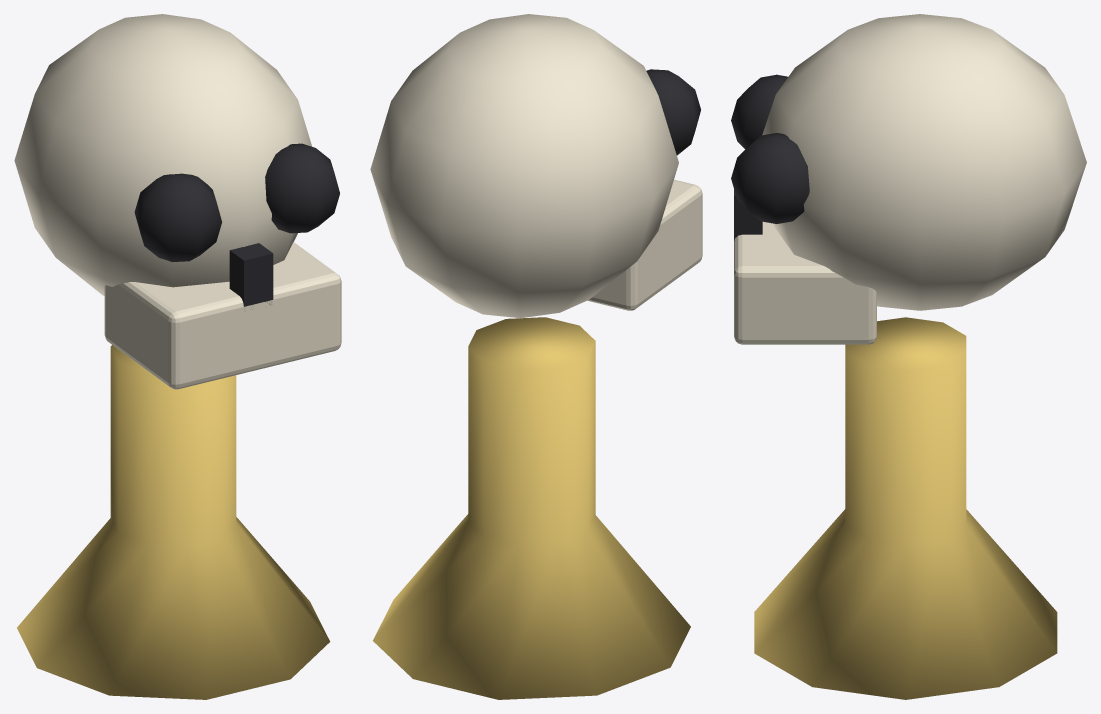
Rendered from chalice_skull_goblet.glb.
3 views of the same model, side by side, from view 1: azimuth 30°, elevation 25°; view 2: azimuth 150°, elevation 25°; view 3: azimuth 270°, elevation 25° (orthographic).
Parts seen in each view (by area): view 1: GD_chalice_skull_goblet__m0, GD_chalice_skull_goblet__m2, GD_chalice_skull_goblet__m1; view 2: GD_chalice_skull_goblet__m0, GD_chalice_skull_goblet__m2, GD_chalice_skull_goblet__m1; view 3: GD_chalice_skull_goblet__m0, GD_chalice_skull_goblet__m2, GD_chalice_skull_goblet__m1.
Part boxes in pixels (bbox=[...]): GD_chalice_skull_goblet__m0: bbox=[14, 14, 341, 389]; GD_chalice_skull_goblet__m2: bbox=[17, 345, 330, 699]; GD_chalice_skull_goblet__m1: bbox=[134, 143, 339, 306]; GD_chalice_skull_goblet__m0: bbox=[370, 14, 702, 318]; GD_chalice_skull_goblet__m2: bbox=[373, 317, 690, 699]; GD_chalice_skull_goblet__m1: bbox=[646, 69, 700, 155]; GD_chalice_skull_goblet__m0: bbox=[734, 14, 1086, 344]; GD_chalice_skull_goblet__m2: bbox=[754, 317, 1057, 699]; GD_chalice_skull_goblet__m1: bbox=[731, 74, 809, 240].
Bounding box in the file's own units: 0.1 × 0.2098 × 0.1118.
